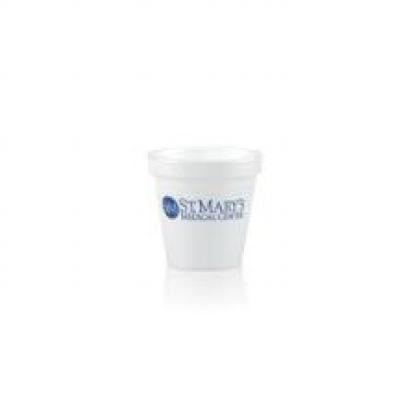paper: (148, 146, 257, 270)
